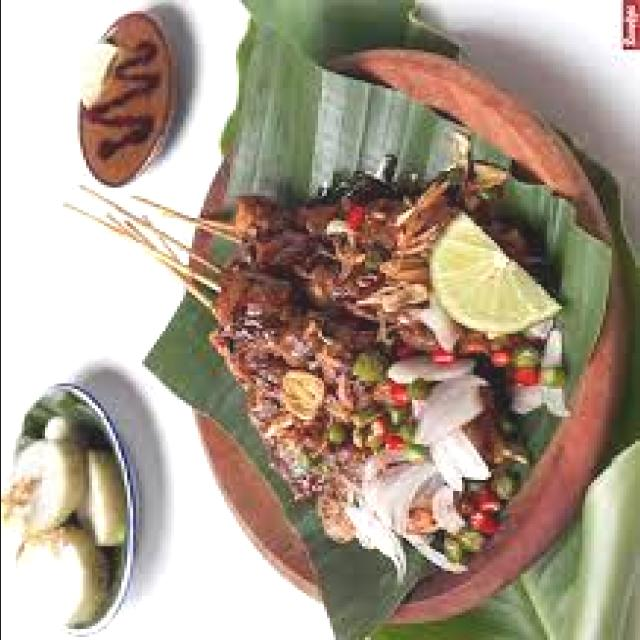sate: (183, 150, 435, 476)
